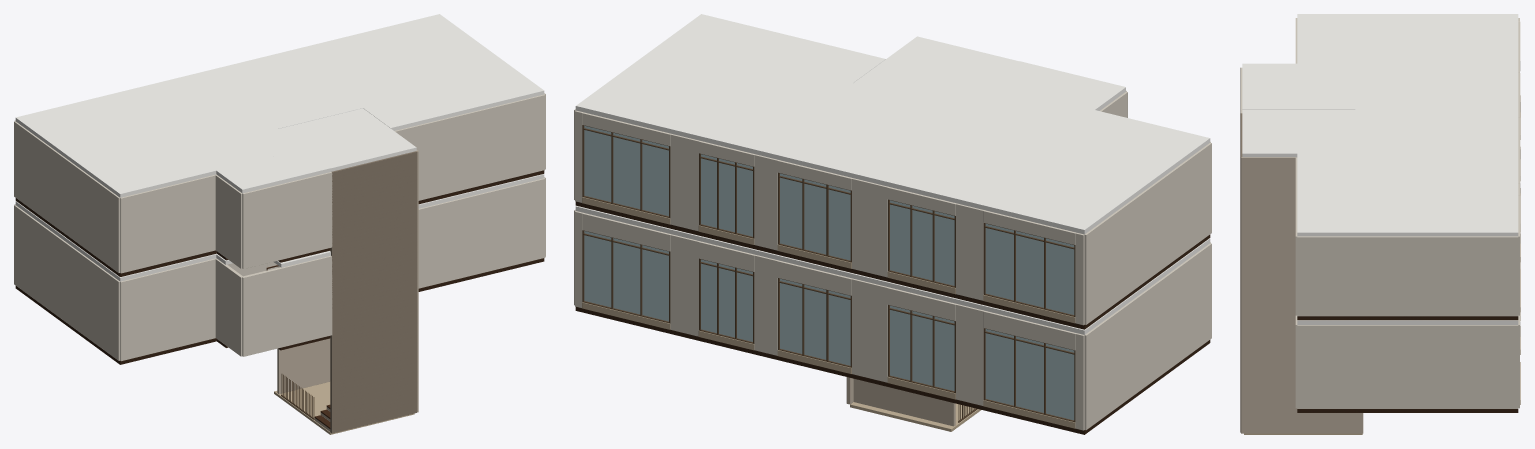
File: shell.glb
The picture shows the model from 3 angles, left to right: view 1: azimuth 30°, elevation 25°; view 2: azimuth 150°, elevation 25°; view 3: azimuth 270°, elevation 25°; orthographic projection. The views are drawn at different scales.
Visible parts, largest first — view 1: SM_UP_SecondFloor, SM_UP_FirstFloor, SM_UP_Stair; view 2: SM_UP_SecondFloor, SM_UP_Glass, SM_UP_FirstFloor, SM_UP_Stair; view 3: SM_UP_SecondFloor, SM_UP_FirstFloor, SM_UP_Stair.
Part boxes in pixels (bbox=[...]): SM_UP_SecondFloor: bbox=[14, 14, 545, 276]; SM_UP_FirstFloor: bbox=[14, 174, 545, 364]; SM_UP_Stair: bbox=[274, 150, 418, 434]; SM_UP_SecondFloor: bbox=[574, 14, 1211, 329]; SM_UP_Glass: bbox=[584, 125, 1074, 420]; SM_UP_FirstFloor: bbox=[574, 206, 1211, 434]; SM_UP_Stair: bbox=[846, 377, 980, 431]; SM_UP_SecondFloor: bbox=[1240, 14, 1520, 320]; SM_UP_FirstFloor: bbox=[1295, 188, 1520, 412]; SM_UP_Stair: bbox=[1240, 113, 1363, 434].
Size of the model in its own units: 19.1 by 11.43 by 10.27.
18 materials, 10 textured.
